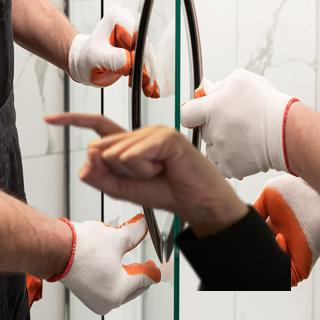WHY: (37, 103, 240, 225)
